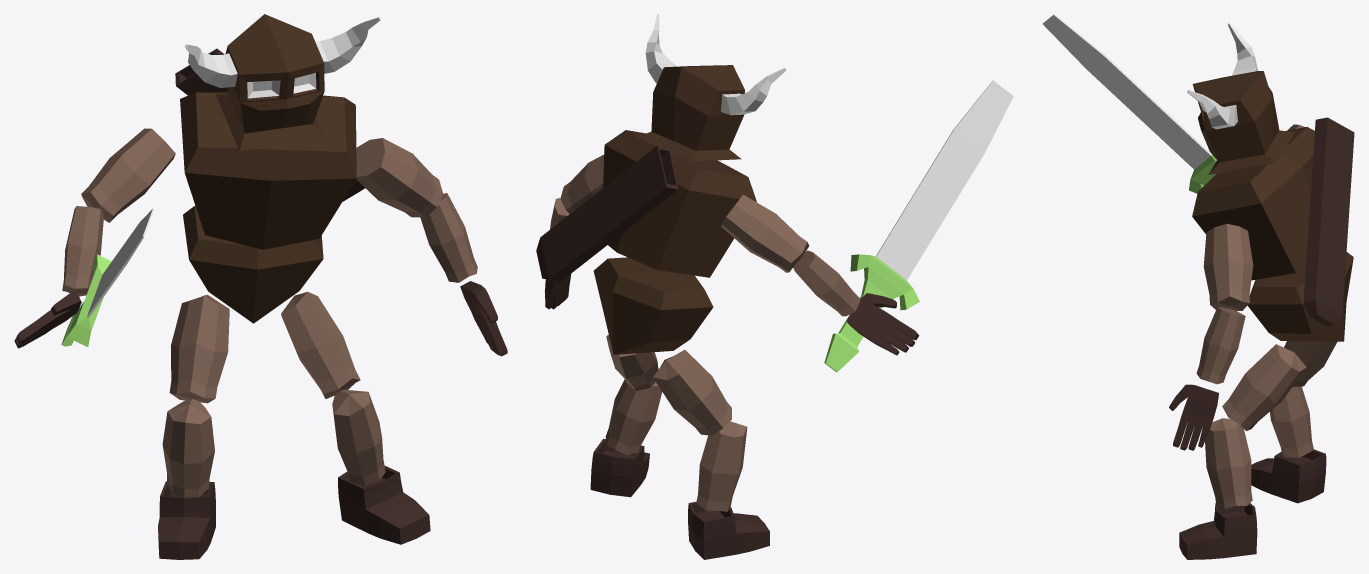
File: HelmetBoi.glb
3 views of the same model, side by side, from view 1: azimuth 30°, elevation 25°; view 2: azimuth 150°, elevation 25°; view 3: azimuth 270°, elevation 25° (orthographic). The views are drawn at different scales.
Visible parts, largest first — view 1: Cube.001, Cube, Cube.008, Cube.012, Cube.009, Cube.002, Cube.011, Cube.007, Cube.013, Cube.010, Cube.014, Cube.003 (+5 smaller); view 2: Cube.001, Cube.016, Cube, Cube.008, Cube.015, Cube.012, Cube.007, Cube.014, Cube.013, Cube.010, Cube.005, Cube.011 (+4 smaller); view 3: Cube.001, Cube.015, Cube, Cube.016, Cube.008, Cube.009, Cube.002, Cube.010, Cube.011, Cube.014, Cube.003, Cube.013 (+2 smaller).
Boxes of the visible parts, x1,y1,x2,y2 form: Cube.001: [180, 91, 356, 249]; Cube: [184, 14, 380, 150]; Cube.008: [183, 206, 323, 323]; Cube.012: [169, 294, 229, 403]; Cube.009: [281, 291, 360, 398]; Cube.002: [356, 138, 443, 217]; Cube.011: [338, 466, 430, 544]; Cube.007: [81, 128, 175, 222]; Cube.013: [162, 399, 214, 498]; Cube.010: [332, 389, 385, 485]; Cube.014: [158, 481, 215, 559]; Cube.003: [420, 193, 477, 282]; Cube.001: [603, 130, 756, 277]; Cube.016: [824, 80, 1013, 372]; Cube: [636, 14, 786, 161]; Cube.008: [593, 257, 713, 354]; Cube.015: [536, 145, 678, 281]; Cube.012: [653, 349, 731, 435]; Cube.007: [721, 194, 809, 272]; Cube.014: [688, 502, 769, 559]; Cube.013: [696, 421, 747, 511]; Cube.010: [605, 379, 661, 455]; Cube.005: [846, 293, 919, 355]; Cube.011: [590, 438, 649, 497]; Cube.001: [1192, 127, 1314, 280]; Cube.015: [1303, 117, 1354, 326]; Cube: [1187, 23, 1294, 174]; Cube.016: [1043, 14, 1216, 193]; Cube.008: [1247, 252, 1353, 341]; Cube.009: [1222, 344, 1306, 430]; Cube.002: [1203, 223, 1253, 311]; Cube.010: [1205, 418, 1252, 509]; Cube.011: [1179, 503, 1257, 559]; Cube.014: [1251, 449, 1326, 503]; Cube.003: [1196, 307, 1245, 384]; Cube.013: [1270, 386, 1313, 457].
Size of the model in its own units: 11.64 by 13.2 by 8.16.
